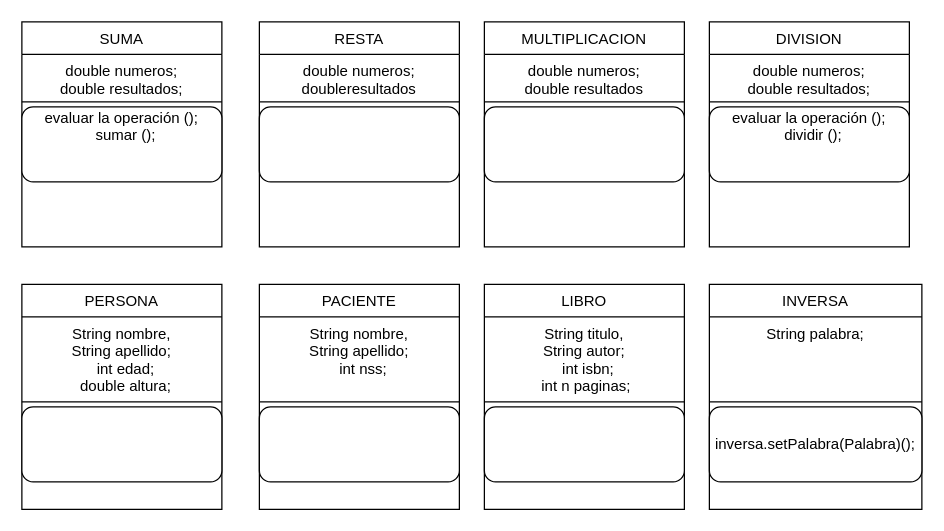
Some shapes in this 944 by 531 pixel diagram are drawn without their labels. The shapes that lost their labels are listed below. From the top down, each one's centre as x and y in pixels, then its label:
[358,144]: evaluar la operación (); restar ();
[583,144]: evaluar la operación(); multiplicar ();
[121,444]: mostrarNombre (); mostrarApellido (); mostrarEdad (); mostrarAltura ();
[358,444]: mostrarNombre (); mostrarApellido (); mostrarNss ();
[583,444]: mostrarTitulo (); mostrarAutor (); mostrarIsbn (); mostrarNPaginas();
